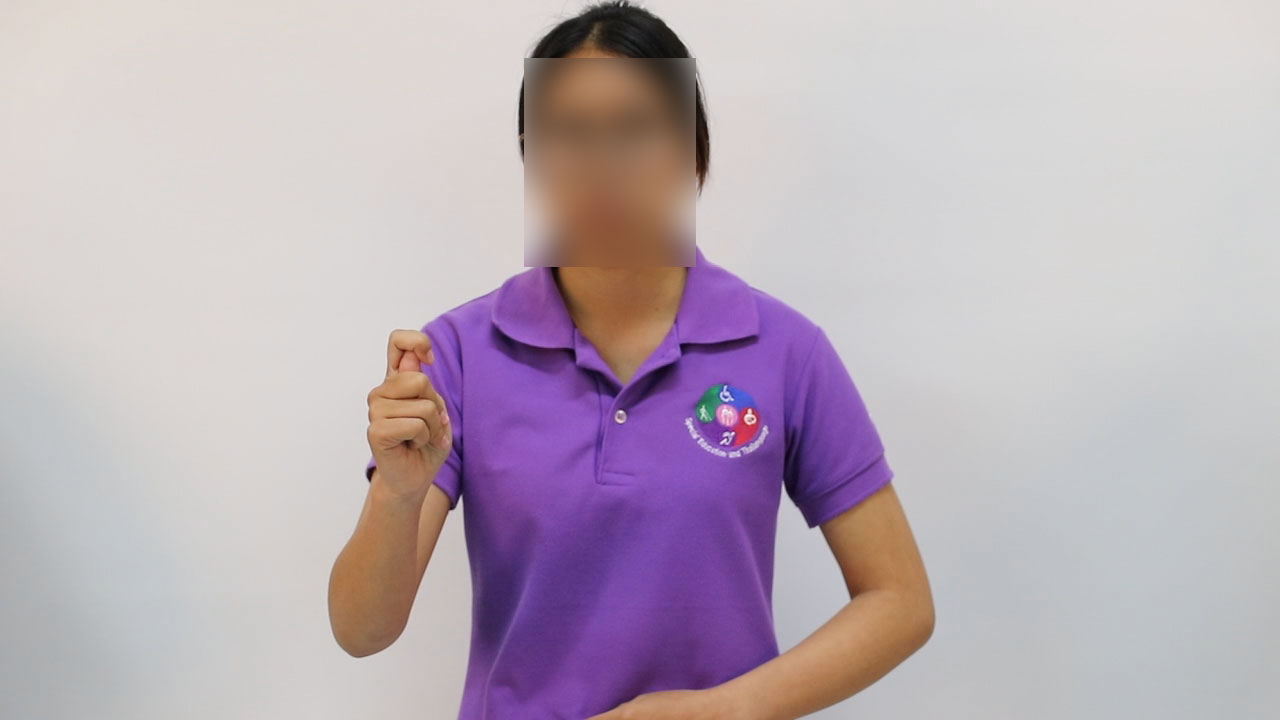or: (358, 318, 462, 500)
